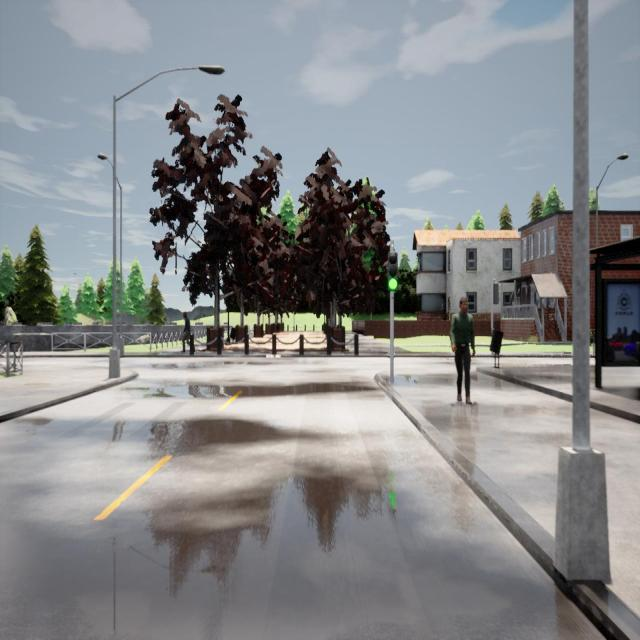Pedestrian: (449, 297, 475, 404), (180, 312, 193, 352)
traffic_light: (387, 252, 398, 290), (494, 283, 501, 304)
